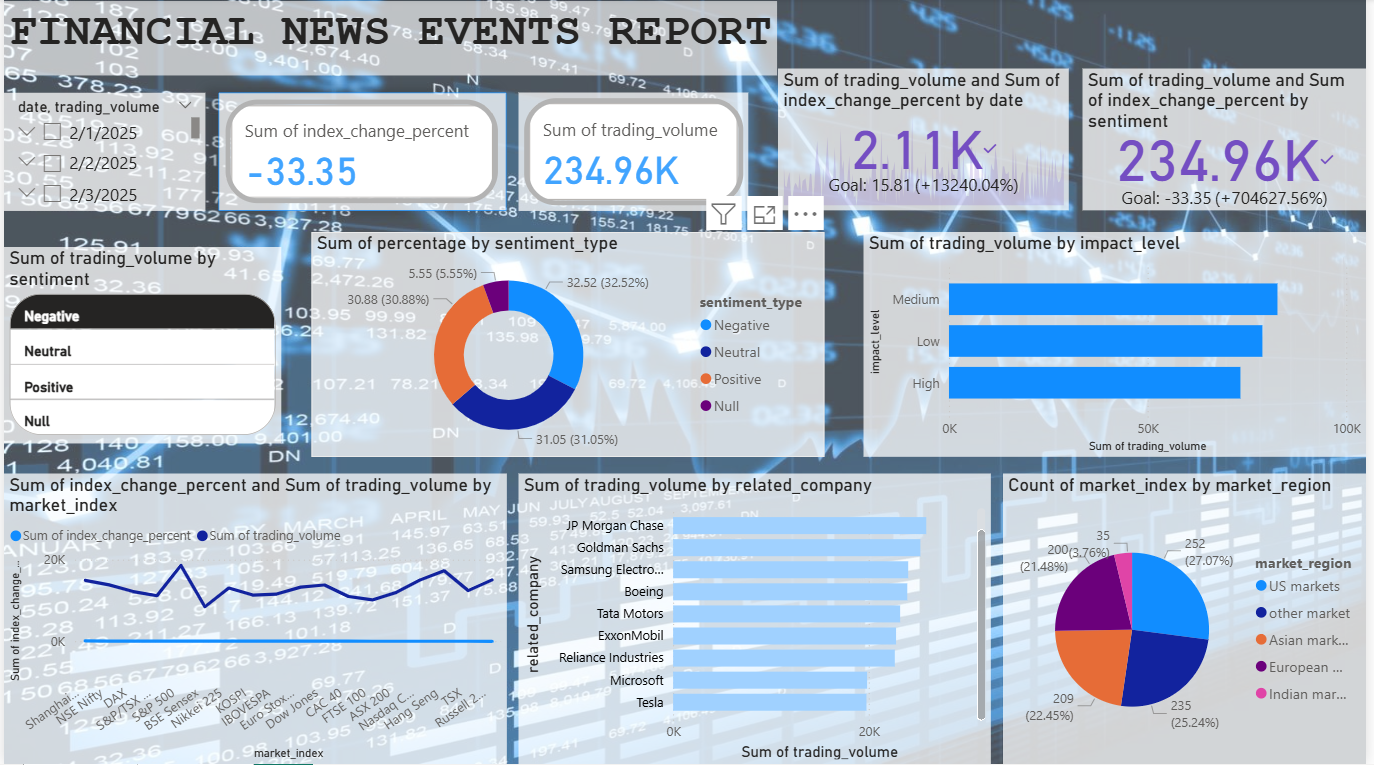

Layout of this report page (visuals, bound fields, positions):
{"tool":"powerbi","page":{"name":"Page 2","canvas":[1280,720],"ordinal":1},"visuals":[{"type":"kpi","fields":{"Indicator":["Sum(financial sentiments.trading_volume)"],"TrendLine":["financial sentiments.date"],"Goal":["Sum(financial sentiments.index_change_percent)"]},"box":[726.9,66.8,273.6,133.6],"z":0},{"type":"cardVisual","fields":{"Data":["Sum(financial sentiments.index_change_percent)"]},"box":[202,89.1,270.4,111.3],"z":1000},{"type":"cardVisual","fields":{"Data":["Sum(financial sentiments.trading_volume)"]},"box":[483.5,89.1,216.3,111.3],"z":2000},{"type":"slicer","fields":{"Values":["financial sentiments.date","financial sentiments.trading_volume"]},"box":[0,89.1,189.3,111.3],"z":3000},{"type":"donutChart","fields":{"Category":["financial sentiment_summary.sentiment_type"],"Y":["Sum(financial sentiment_summary.percentage)"]},"box":[289.5,219.5,482,211.6],"z":4000},{"type":"barChart","fields":{"Category":["financial sentiments.impact_level"],"Y":["Sum(financial sentiments.trading_volume)"]},"box":[808,219.5,472.4,211.6],"z":5000},{"type":"lineChart","fields":{"Category":["financial sentiments.market_index"],"Y":["Sum(financial sentiments.index_change_percent)","Sum(financial sentiments.trading_volume)"]},"box":[0,447,472.4,273.6],"z":6000},{"type":"advancedSlicerVisual","fields":{"Values":["financial sentiments.sentiment"]},"box":[0,233.8,260.9,184.5],"z":7000},{"type":"barChart","fields":{"Category":["financial sentiments.related_company"],"Y":["Sum(financial sentiments.trading_volume)"]},"box":[483.5,447,443.8,273.6],"z":8000},{"type":"kpi","fields":{"Indicator":["Sum(financial sentiments.trading_volume)"],"Goal":["Sum(financial sentiments.index_change_percent)"],"TrendLine":["financial sentiments.sentiment"]},"box":[1013.2,66.8,267.2,133.6],"z":9000},{"type":"pieChart","fields":{"Category":["financial sentiments.market_region"],"Y":["CountNonNull(financial sentiments.market_index)"]},"box":[938.5,447,342,273.6],"z":10000},{"type":"textbox","box":[0,3.2,726.9,70],"z":11000}]}

Visuals, with their boxes in screenshot pixels (x1, y1, x2, y2), scaled from the page's 1280x720 canvas onto the 1374x765 screenshot:
kpi - Sum(financial sentiments.trading_volume) x financial sentiments.date: pyautogui.locateOnScreen(780, 71, 1074, 213)
cardVisual - Sum(financial sentiments.index_change_percent): pyautogui.locateOnScreen(217, 95, 507, 213)
cardVisual - Sum(financial sentiments.trading_volume): pyautogui.locateOnScreen(519, 95, 751, 213)
slicer - financial sentiments.date x financial sentiments.trading_volume: pyautogui.locateOnScreen(0, 95, 203, 213)
donutChart - financial sentiment_summary.sentiment_type x Sum(financial sentiment_summary.percentage): pyautogui.locateOnScreen(311, 233, 828, 458)
barChart - financial sentiments.impact_level x Sum(financial sentiments.trading_volume): pyautogui.locateOnScreen(867, 233, 1373, 458)
lineChart - financial sentiments.market_index x Sum(financial sentiments.index_change_percent): pyautogui.locateOnScreen(0, 475, 507, 764)
advancedSlicerVisual - financial sentiments.sentiment: pyautogui.locateOnScreen(0, 248, 280, 444)
barChart - financial sentiments.related_company x Sum(financial sentiments.trading_volume): pyautogui.locateOnScreen(519, 475, 995, 764)
kpi - Sum(financial sentiments.trading_volume) x Sum(financial sentiments.index_change_percent): pyautogui.locateOnScreen(1088, 71, 1373, 213)
pieChart - financial sentiments.market_region x CountNonNull(financial sentiments.market_index): pyautogui.locateOnScreen(1007, 475, 1373, 764)
textbox: pyautogui.locateOnScreen(0, 3, 780, 78)
